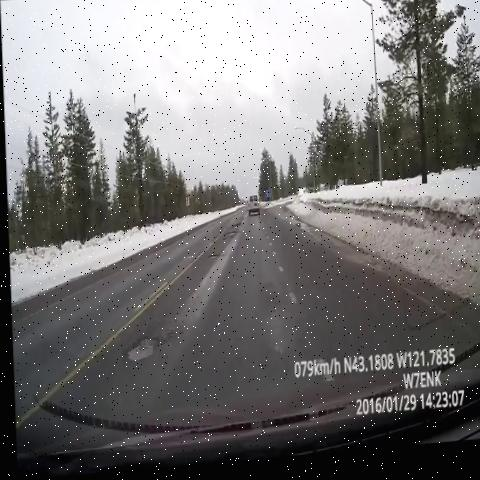pothole: (109, 315, 182, 383), (199, 248, 226, 273), (218, 222, 241, 247)
